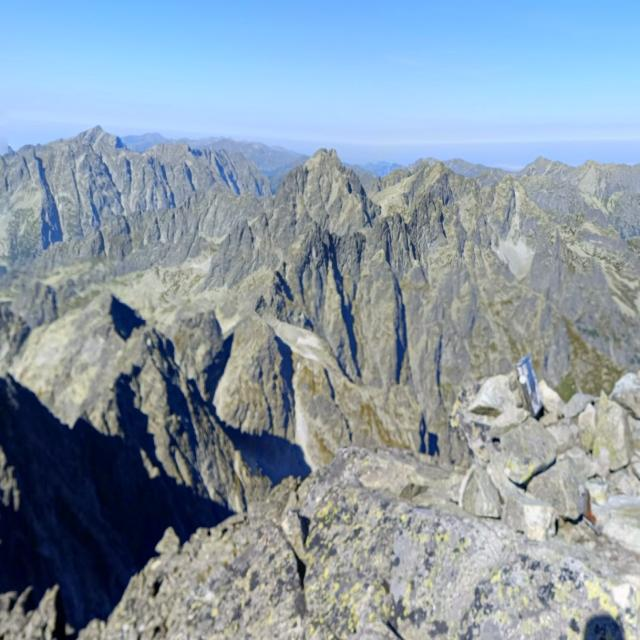Bystra: (201, 114, 246, 160)
Ganek: (245, 165, 389, 289)
Krivan: (60, 91, 130, 164)
Rysy: (392, 117, 471, 198)
Swinica: (510, 137, 568, 176)
Vysoka: (266, 105, 386, 190)
